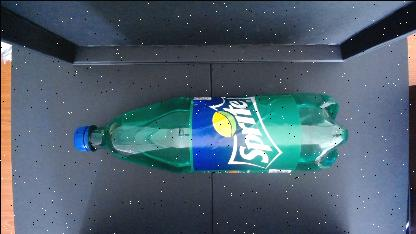Plastic Bottle: (73, 92, 347, 172)
